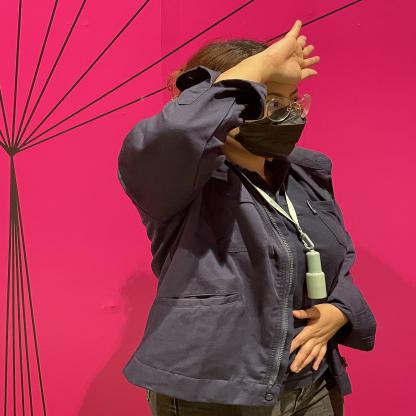Sick: (199, 14, 354, 94)
